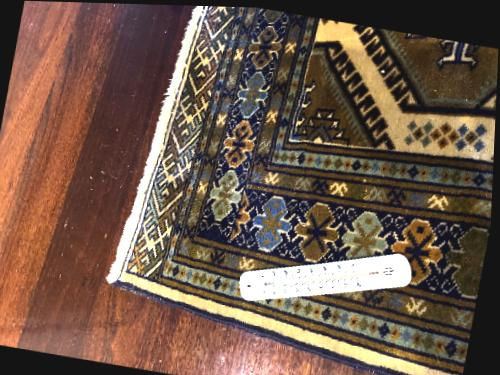thermo: (240, 252, 408, 304)
